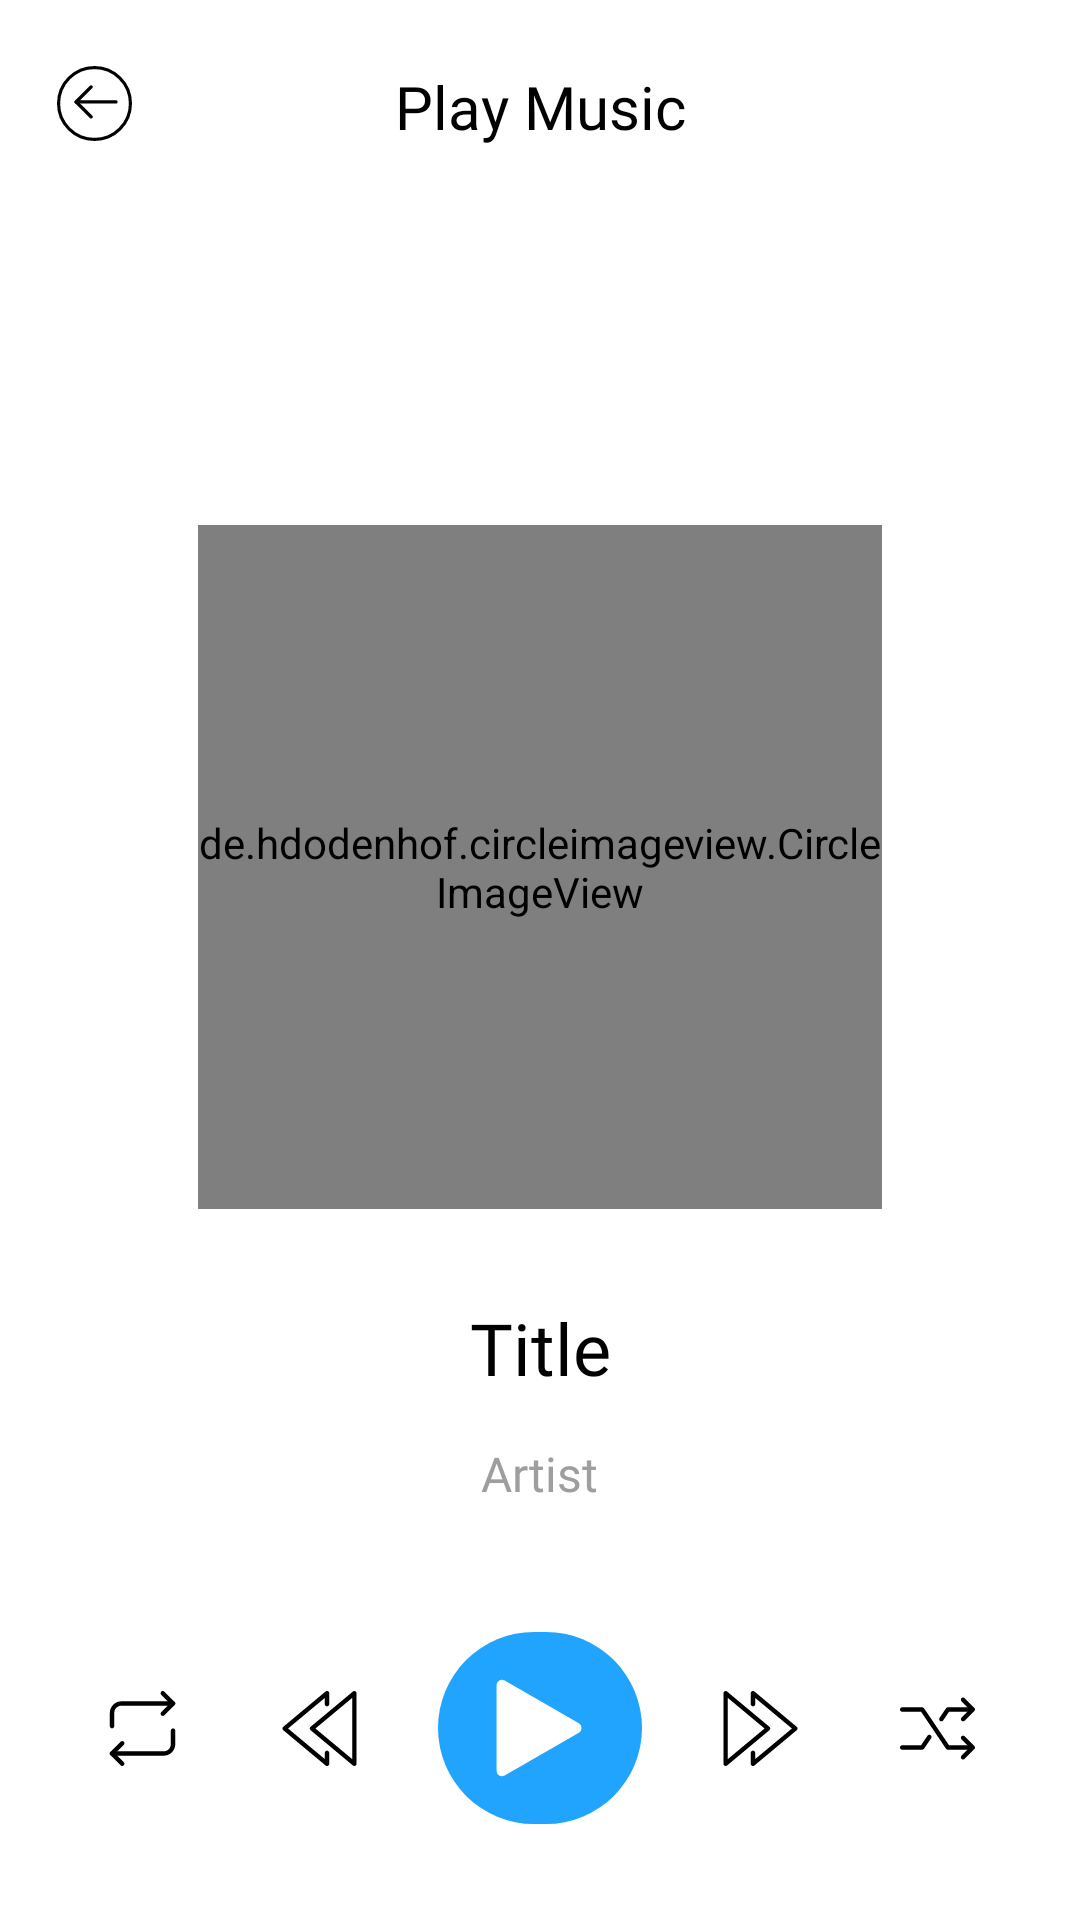

Where to tap for icons on this 1080x1920 app screen, as (x=x, y=y):
back: (x=94, y=103)
next: (x=760, y=1728)
previous: (x=319, y=1728)
reload: (x=142, y=1728)
shuffle: (x=937, y=1728)
